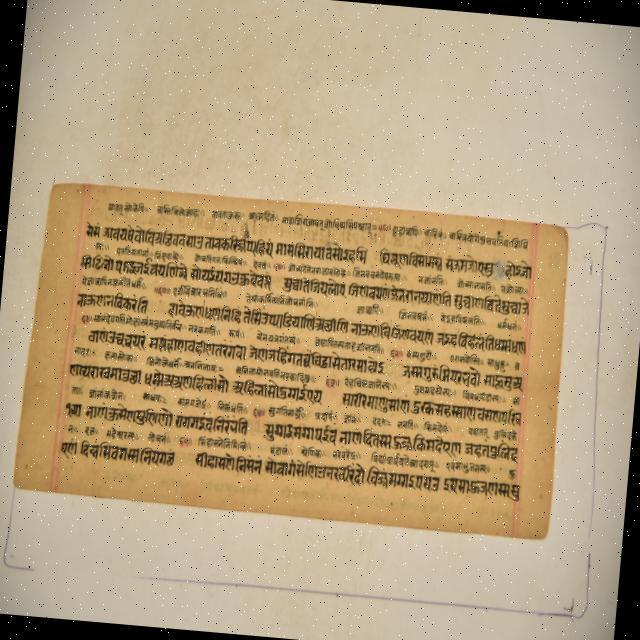text_paragraph: (12, 185, 564, 537)
